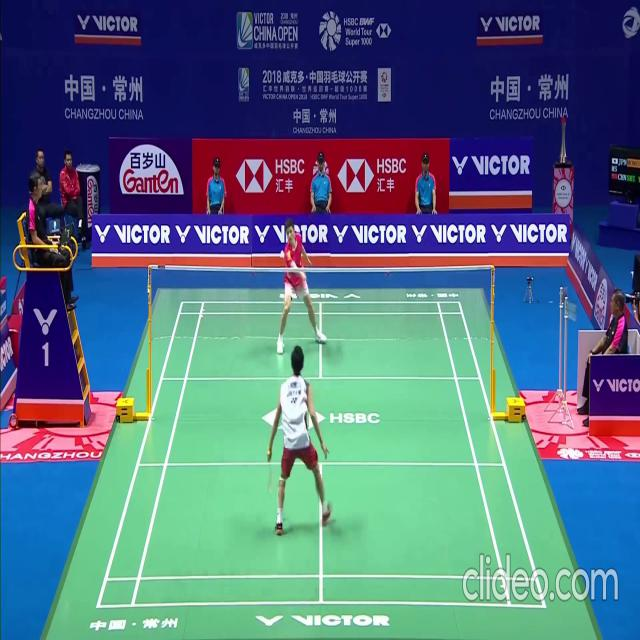Shuttlecock: (279, 248, 284, 256)
